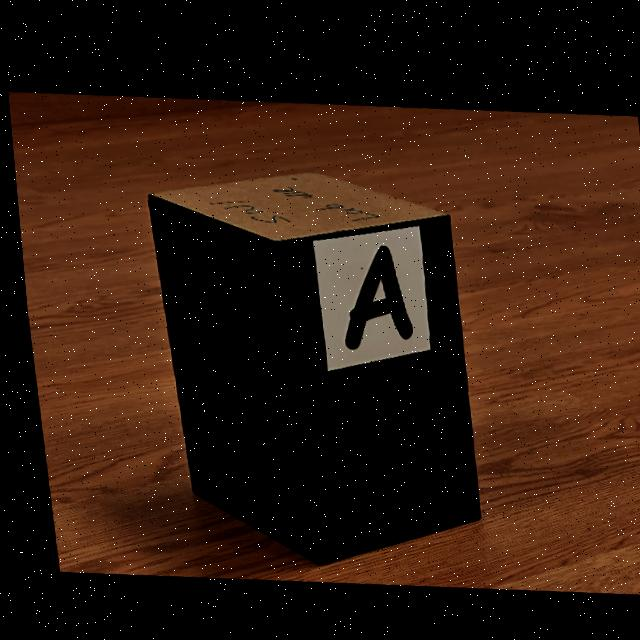A: (339, 240, 407, 344)
